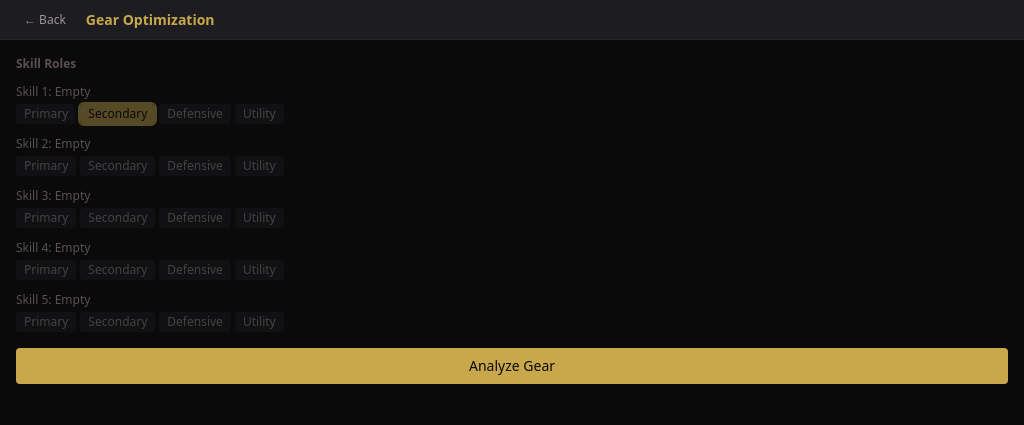
GearOptimizationView › clicking Analyze Gear with no Primary Offense shows error message
Click the button with test id "analyze-gear-button" at coordinates (512, 366), box [16,348,1008,384]
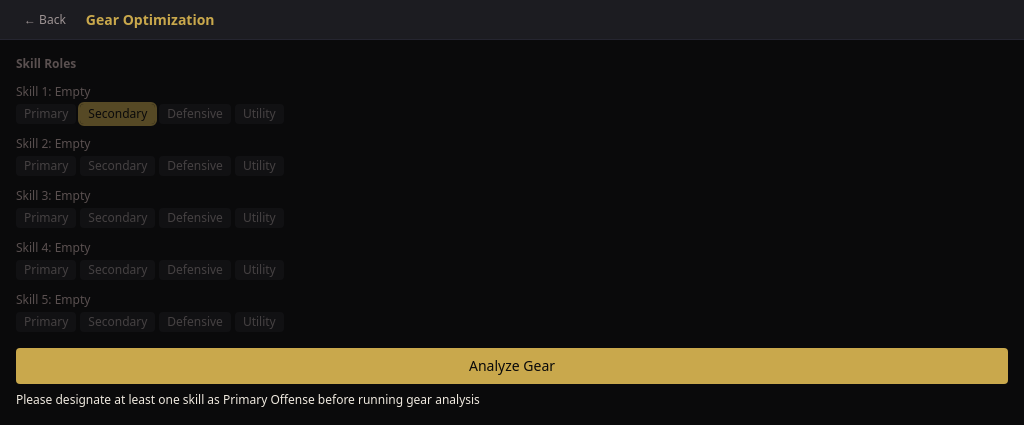
Check: the text with test id "analyze-gear-error" shows "Please designate at least one skill as Primary Offense before running gear analysis", box [16,391,480,408]
